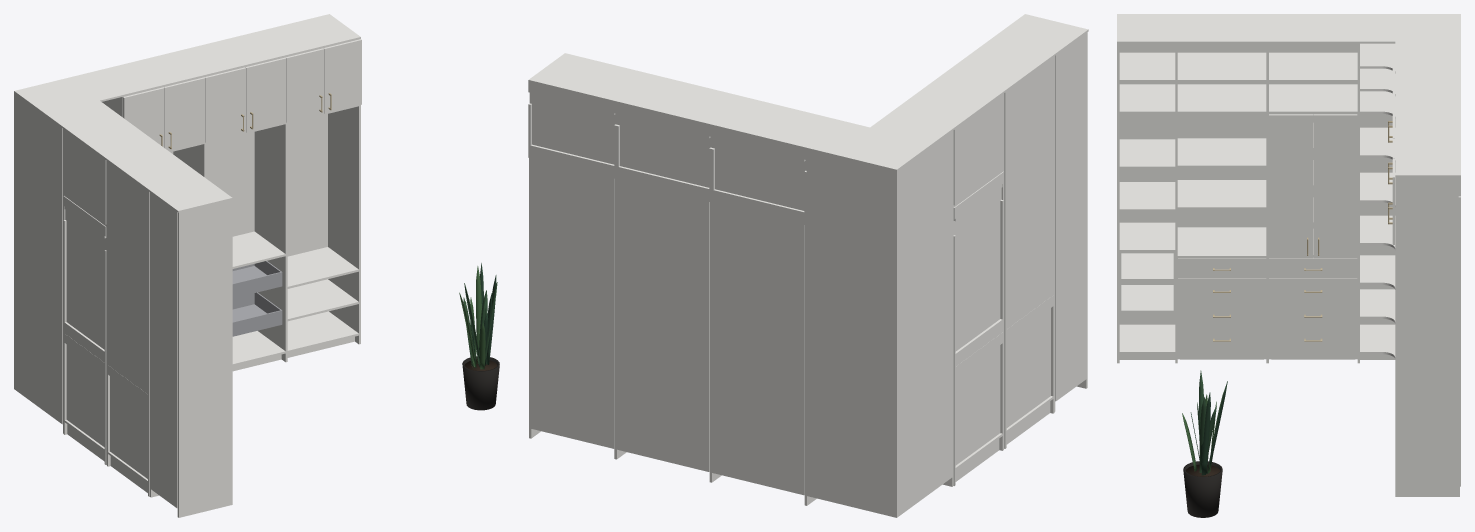
File: showroom-closet.glb
The picture shows the model from 3 angles, left to right: view 1: azimuth 30°, elevation 25°; view 2: azimuth 150°, elevation 25°; view 3: azimuth 270°, elevation 25°; orthographic projection. The views are drawn at different scales.
Visible parts, largest first — view 1: showroom-closet.002, mv_showroom-closet_000, mv_showroom-closet_002, mv_showroom-closet_003, mv_showroom-closet_005, mv_showroom-closet_004, mv_showroom-closet_001; view 2: showroom-closet.002; view 3: showroom-closet.002, mv_showroom-closet_015, mv_showroom-closet_014, mv_showroom-closet_007, mv_showroom-closet_008, mv_showroom-closet_011, mv_showroom-closet_012, mv_showroom-closet_009, mv_showroom-closet_013, mv_showroom-closet_006, mv_showroom-closet_010.
Part boxes in pixels (x1,y1,x2,y2): showroom-closet.002: (14,14,499,517); mv_showroom-closet_000: (164,77,205,151); mv_showroom-closet_002: (245,57,286,132); mv_showroom-closet_003: (204,67,245,142); mv_showroom-closet_005: (286,48,324,122); mv_showroom-closet_004: (323,39,361,113); mv_showroom-closet_001: (123,87,164,147); showroom-closet.002: (528,14,1088,517); showroom-closet.002: (1117,14,1460,517); mv_showroom-closet_015: (1313,114,1357,258); mv_showroom-closet_014: (1269,114,1312,258); mv_showroom-closet_007: (1269,278,1357,302); mv_showroom-closet_008: (1269,303,1357,327); mv_showroom-closet_011: (1178,278,1266,302); mv_showroom-closet_012: (1178,303,1266,327); mv_showroom-closet_009: (1269,327,1357,351); mv_showroom-closet_013: (1178,327,1266,351); mv_showroom-closet_006: (1269,258,1357,278); mv_showroom-closet_010: (1178,258,1266,278).
Size of the model in its own units: 3.39 by 2.75 by 2.66.
Materials: 10 (5 with a texture image).
